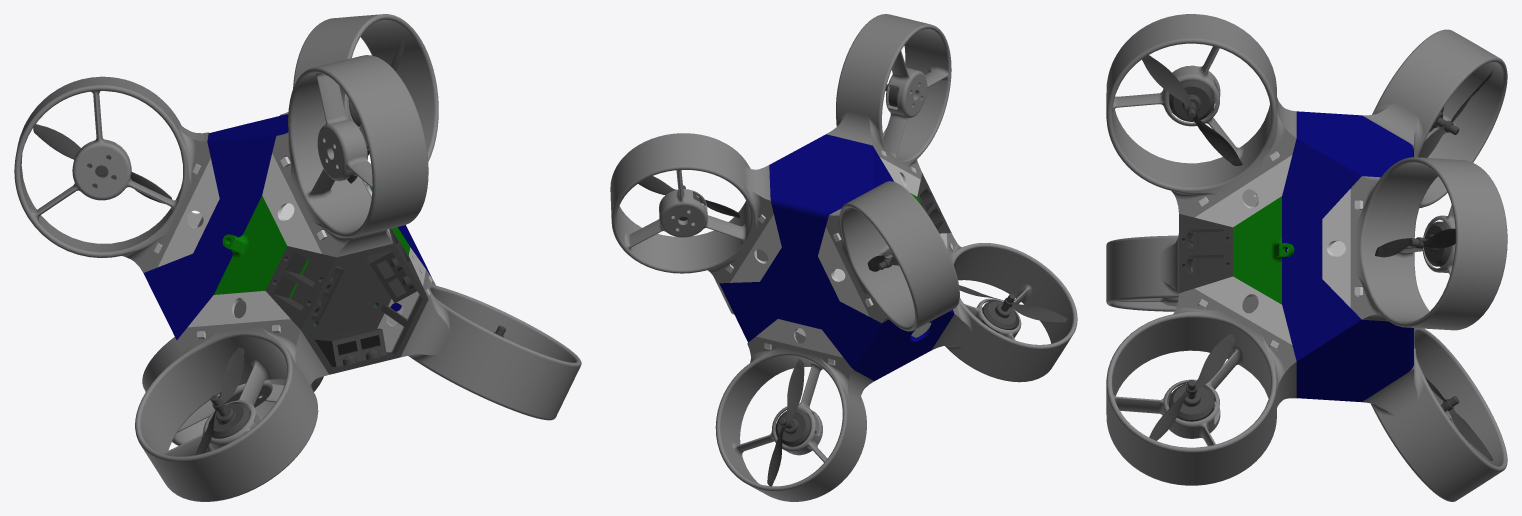
The model's file is acrobat_body.fbx.
The picture shows the model from 3 angles, left to right: view 1: azimuth 30°, elevation 25°; view 2: azimuth 150°, elevation 25°; view 3: azimuth 270°, elevation 25°; orthographic projection. The views are drawn at different scales.
Parts seen in each view (by area): view 1: Body1 (×16); view 2: Body1 (×16); view 3: Body1 (×20).
Part boxes in pixels (box(x1,y1,x2,y2)): Body1 (×16): box(14, 14, 581, 501); Body1 (×16): box(610, 14, 1077, 501); Body1 (×20): box(1106, 14, 1507, 501).
Bounding box in the file's own units: 0.2886 × 0.3136 × 0.2445.
